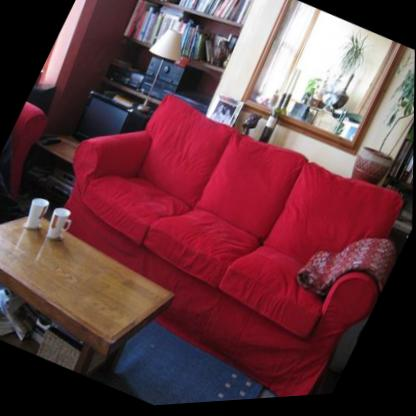Sofa: (7, 53, 415, 415)
Table: (0, 164, 193, 402)
